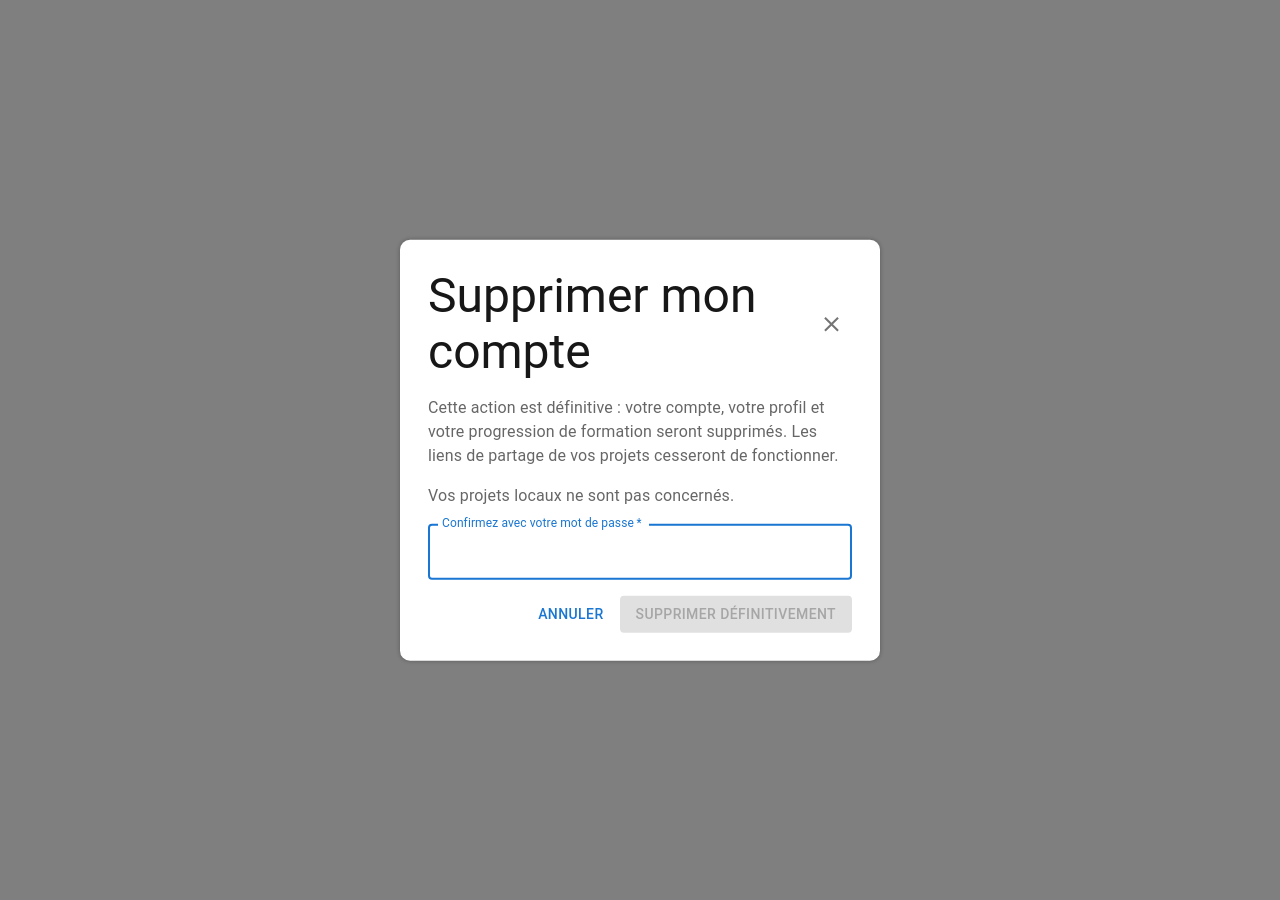
Test: DeleteAccountModal › shows the error and announces nothing when the deletion fails
The image size is (1280, 900).
Step 1. Type "nope" into the password field labelled "Confirmez avec votre mot de passe *" → (640, 552), box [428,524,852,580]
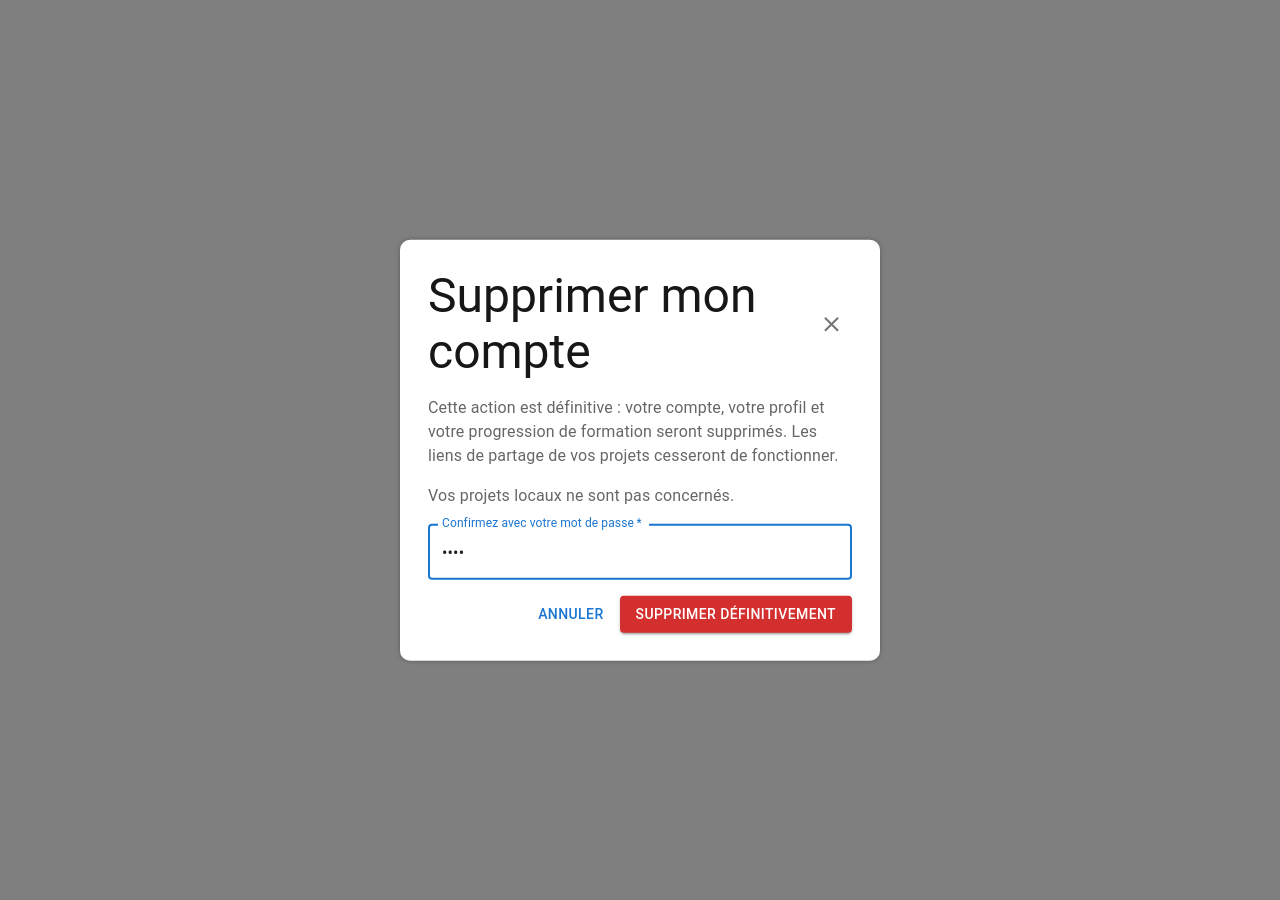
Step 2. Click the button "Supprimer définitivement" → (736, 614), box [620,596,852,632]
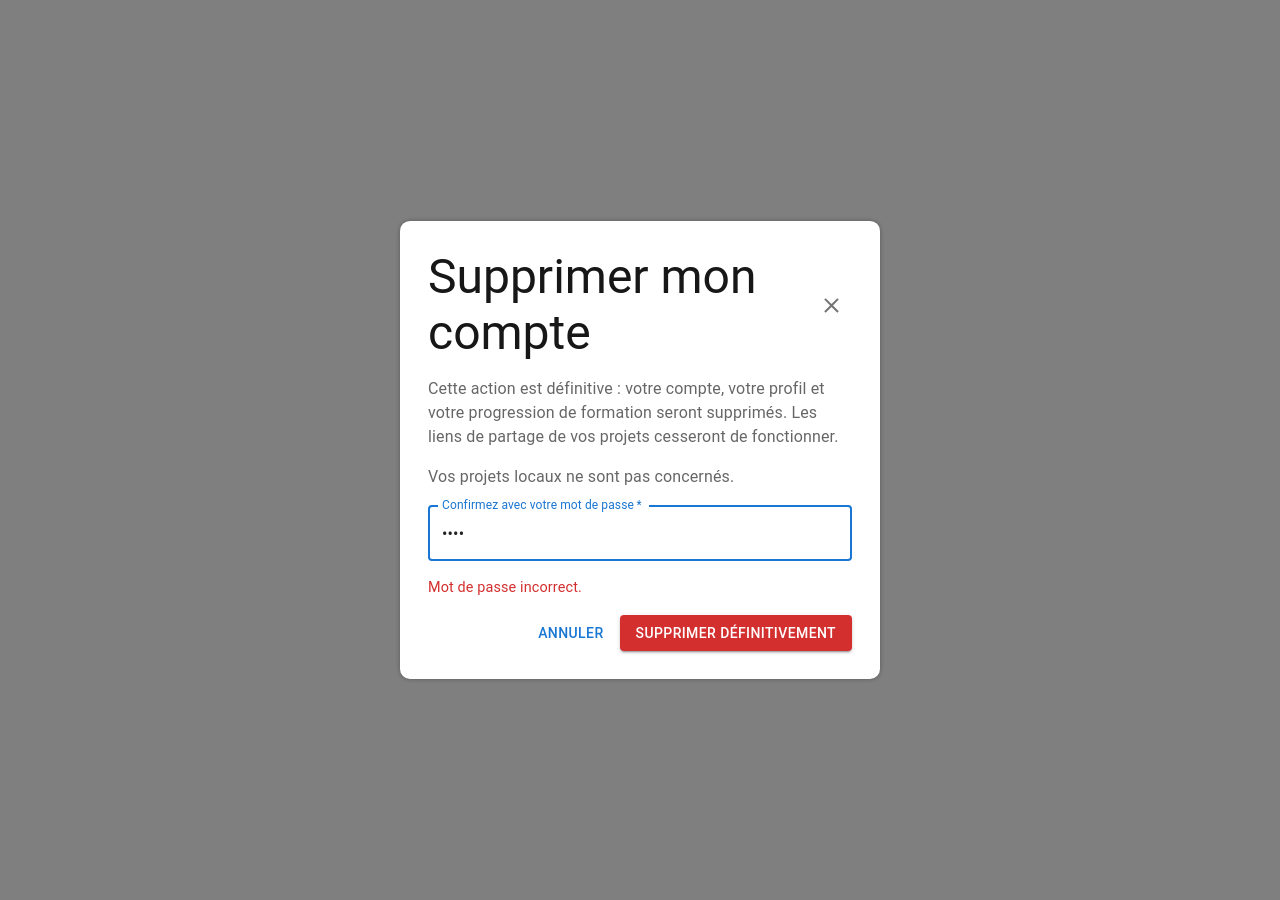
Expected: the text "Mot de passe incorrect." is shown, [428,579,582,596]
